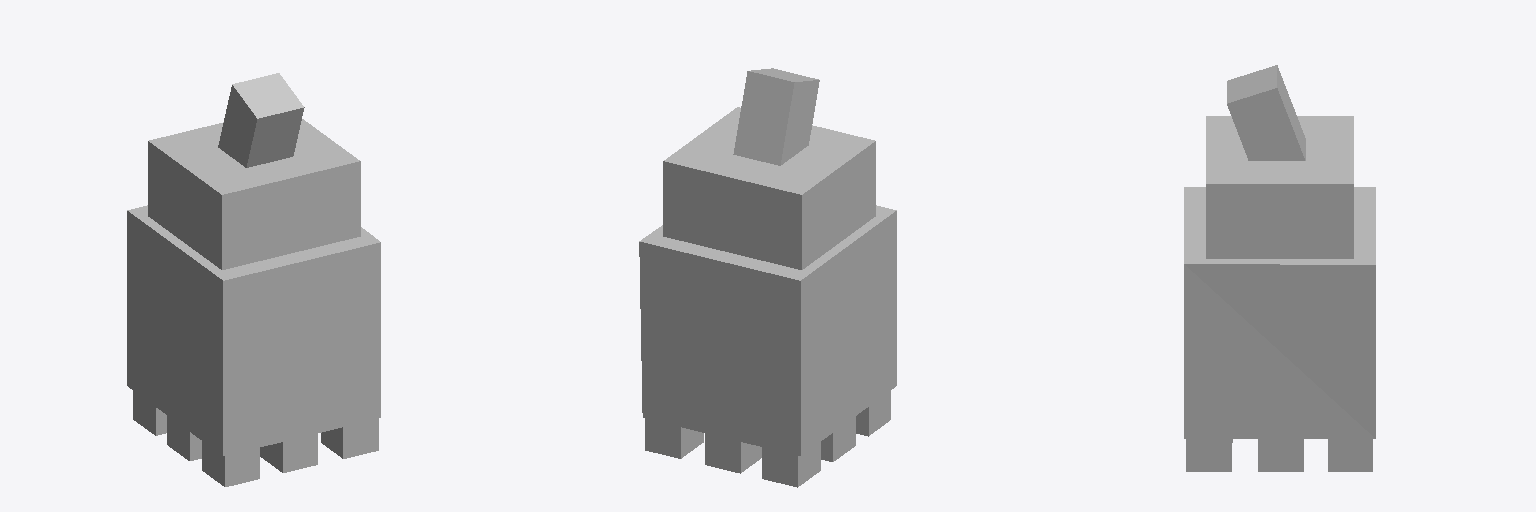
The model's file is pomeg.obj.
3 renders of one model, left to right at view 1: azimuth 30°, elevation 25°; view 2: azimuth 150°, elevation 25°; view 3: azimuth 270°, elevation 25°, orthographic.
Parts seen in each view (by area): view 1: Cube.001; view 2: Cube.001; view 3: Cube.001.
Boxes of the visible parts, x1,y1,x2,y2 form: Cube.001: [127, 73, 380, 486]; Cube.001: [639, 68, 896, 487]; Cube.001: [1184, 65, 1375, 471].
Bounding box in the file's own units: 0.2347 × 0.4971 × 0.2422.